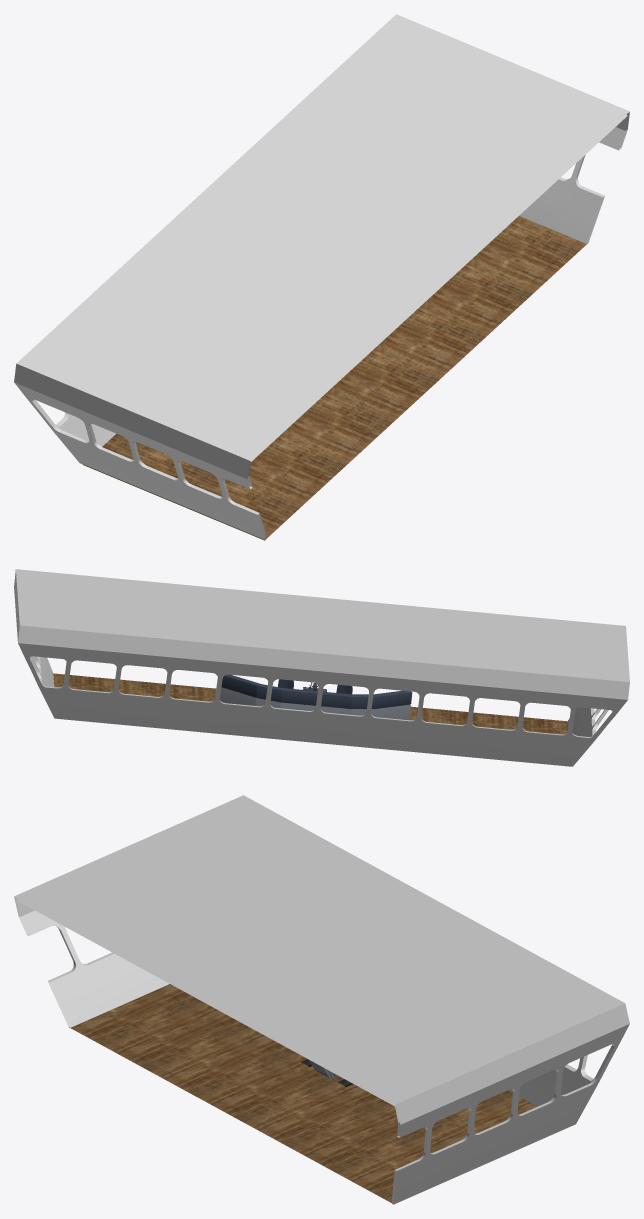
The model's file is Ship_Bridge_3D_Model.gltf.
3 views of the same model, one above another, from view 1: azimuth 30°, elevation 25°; view 2: azimuth 150°, elevation 25°; view 3: azimuth 270°, elevation 25° (orthographic). The views are drawn at different scales.
Visible parts, largest first — view 1: Object002_BridgeRoom-color_0, Object004_BridgeRoom-floor-wood_0; view 2: Object002_BridgeRoom-color_0, Bridge-collected_Bridge-color_0, Object004_BridgeRoom-floor-wood_0; view 3: Object002_BridgeRoom-color_0, Object004_BridgeRoom-floor-wood_0.
Part boxes in pixels (x1,y1,x2,y2): Object002_BridgeRoom-color_0: [14, 14, 629, 539]; Object004_BridgeRoom-floor-wood_0: [83, 216, 587, 540]; Object002_BridgeRoom-color_0: [14, 569, 629, 766]; Bridge-collected_Bridge-color_0: [220, 674, 412, 720]; Object004_BridgeRoom-floor-wood_0: [53, 673, 567, 734]; Object002_BridgeRoom-color_0: [14, 795, 629, 1204]; Object004_BridgeRoom-floor-wood_0: [69, 984, 537, 1204].
Size of the model in its own units: 2122 by 658 by 1635.
4 materials, 3 textured.
